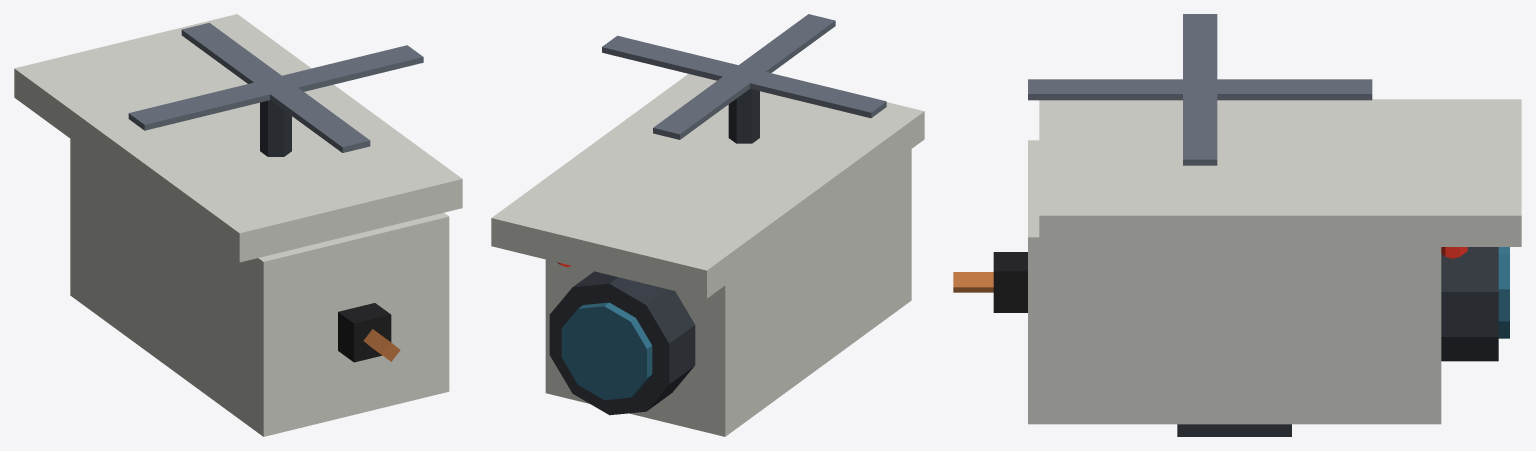
Rendered from enemy_flock_camera.glb.
3 views of the same model, side by side, from view 1: azimuth 30°, elevation 25°; view 2: azimuth 150°, elevation 25°; view 3: azimuth 270°, elevation 25° (orthographic). The views are drawn at different scales.
Parts seen in each view (by area): view 1: enemy_flock_camera; view 2: enemy_flock_camera; view 3: enemy_flock_camera.
Part boxes in pixels (box(x1,y1,x2,y2)): enemy_flock_camera: box(14, 14, 462, 436); enemy_flock_camera: box(491, 14, 924, 436); enemy_flock_camera: box(953, 14, 1521, 436).
Size of the model in its own units: 0.3 by 0.318 by 0.495.
1 material, 1 textured.
